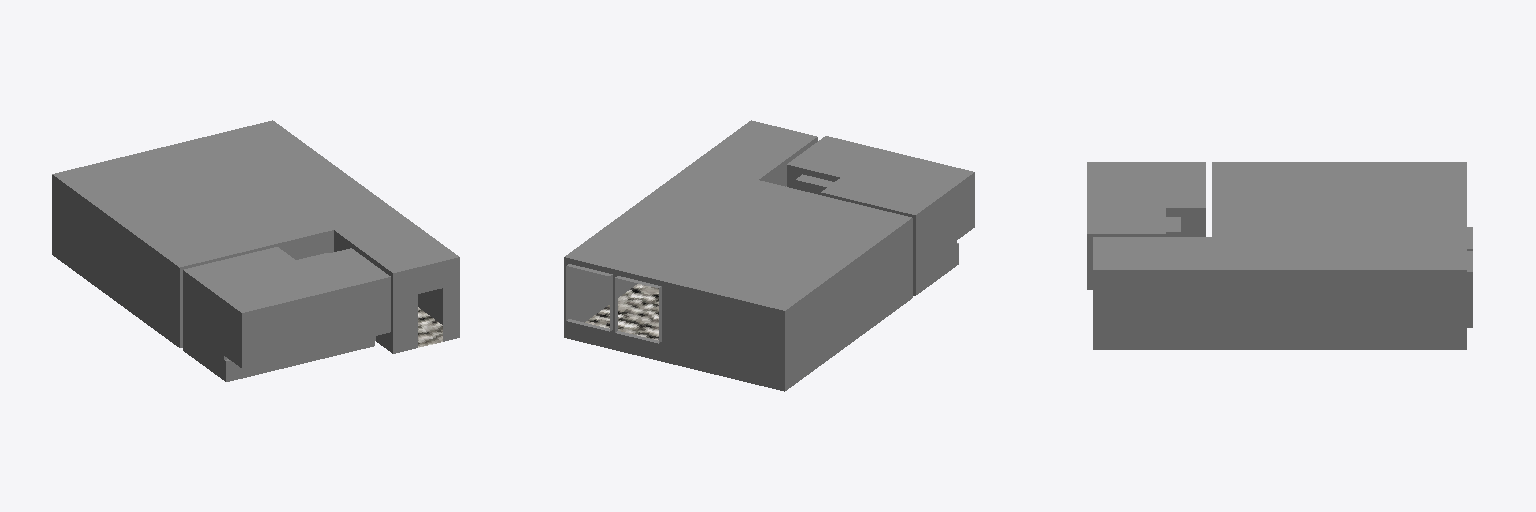
3 renders of one model, left to right at view 1: azimuth 30°, elevation 25°; view 2: azimuth 150°, elevation 25°; view 3: azimuth 270°, elevation 25°, orthographic.
Parts seen in each view (by area): view 1: Room_301; view 2: Room_301; view 3: Room_301.
Boxes of the visible parts, x1=… form: Room_301: x1=52, y1=120, x2=459, y2=381; Room_301: x1=564, y1=120, x2=974, y2=391; Room_301: x1=1087, y1=162, x2=1472, y2=349.
Size of the model in its own units: 10.16 by 3.54 by 15.35.
Materials: 4 (1 with a texture image).